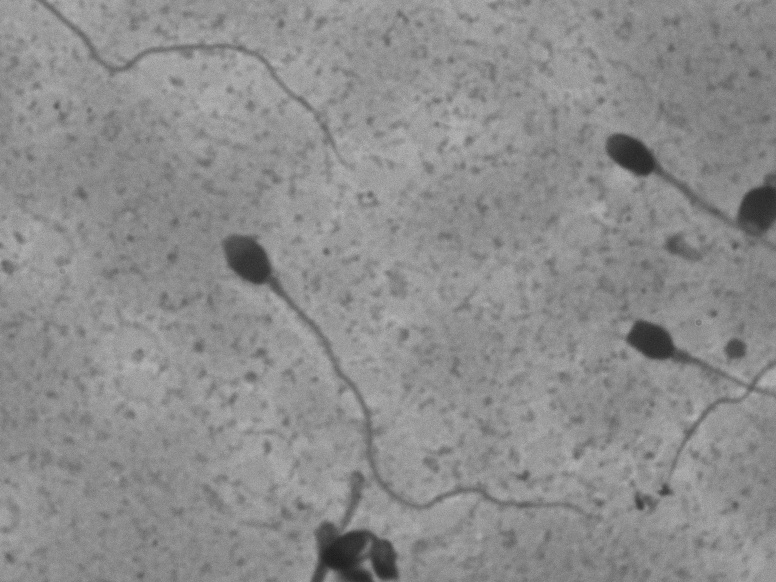Abnormal: (591, 92, 726, 217)
Normal: (197, 197, 589, 566)
